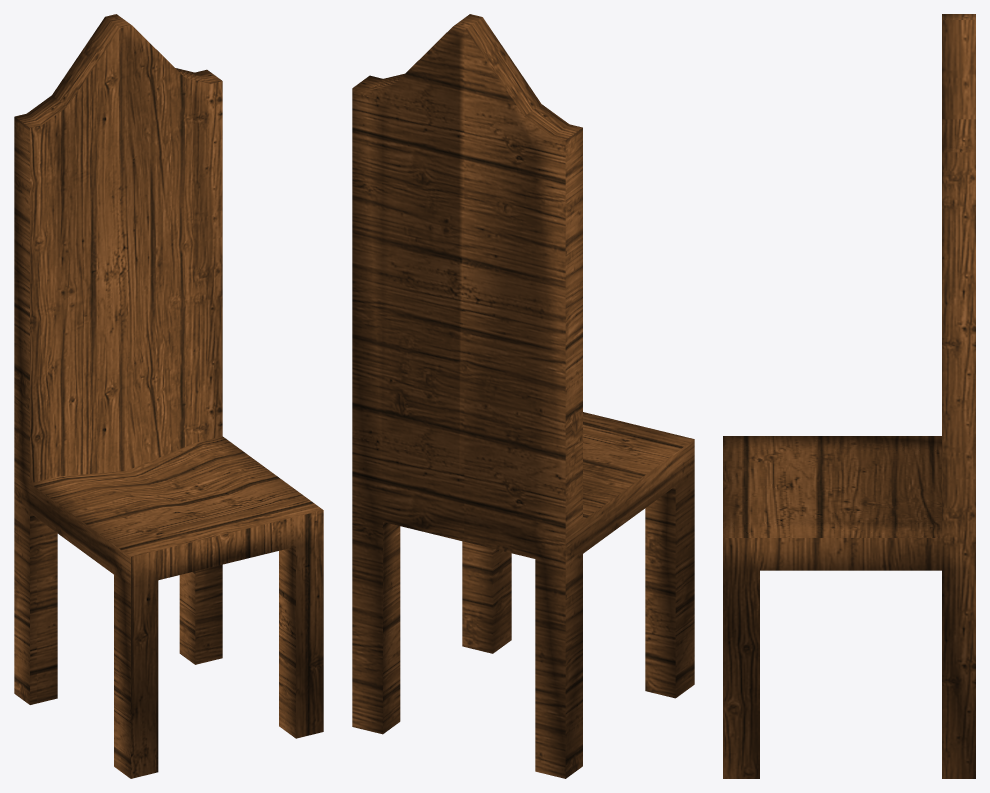
Rendered from Chair_3.gltf.
The picture shows the model from 3 angles, left to right: view 1: azimuth 30°, elevation 25°; view 2: azimuth 150°, elevation 25°; view 3: azimuth 270°, elevation 25°; orthographic projection. The views are drawn at different scales.
Visible parts, largest first — view 1: Chair_3.001; view 2: Chair_3.001; view 3: Chair_3.001.
Boxes of the visible parts, box(x1,y1,x2,y2) form: Chair_3.001: box(14, 14, 323, 778); Chair_3.001: box(352, 14, 694, 778); Chair_3.001: box(723, 14, 975, 778).
Size of the model in its own units: 2 by 6.5 by 2.09.
1 material, 1 textured.
